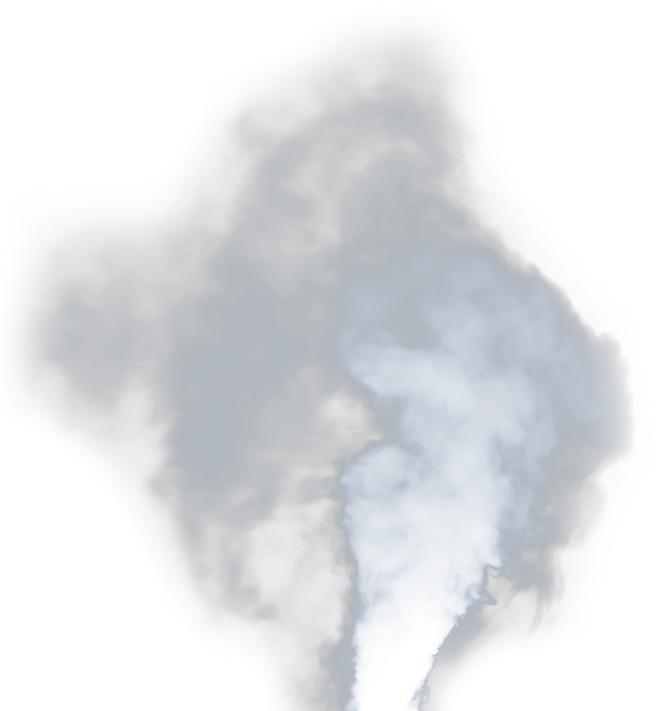smoke: (37, 42, 643, 711), (312, 252, 634, 422), (327, 435, 501, 707), (131, 453, 306, 642)
